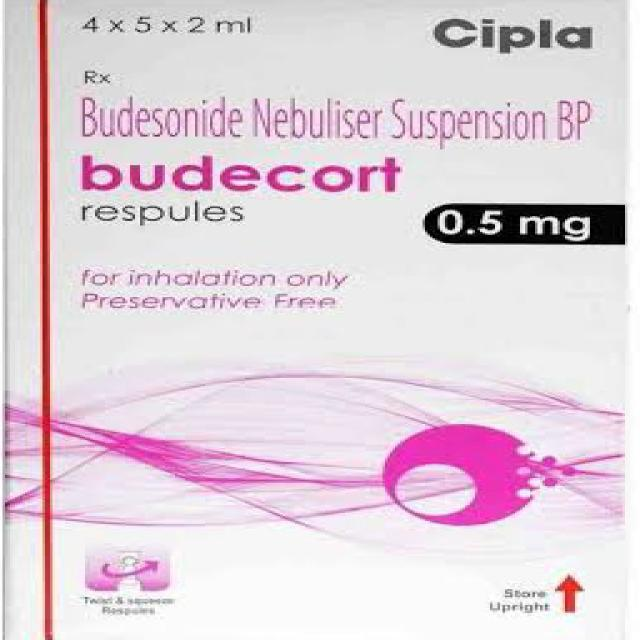drug-name: (77, 149, 406, 202)
